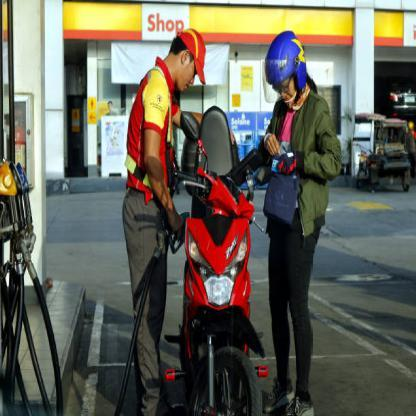Motorcycle: (171, 125, 271, 416)
